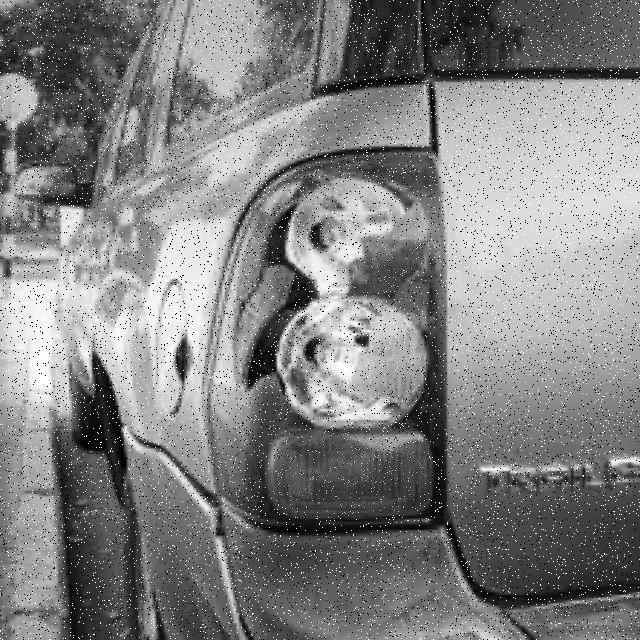Taillight-Damage: (197, 153, 468, 528)
